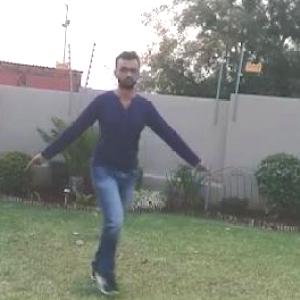land: (25, 47, 207, 293)
